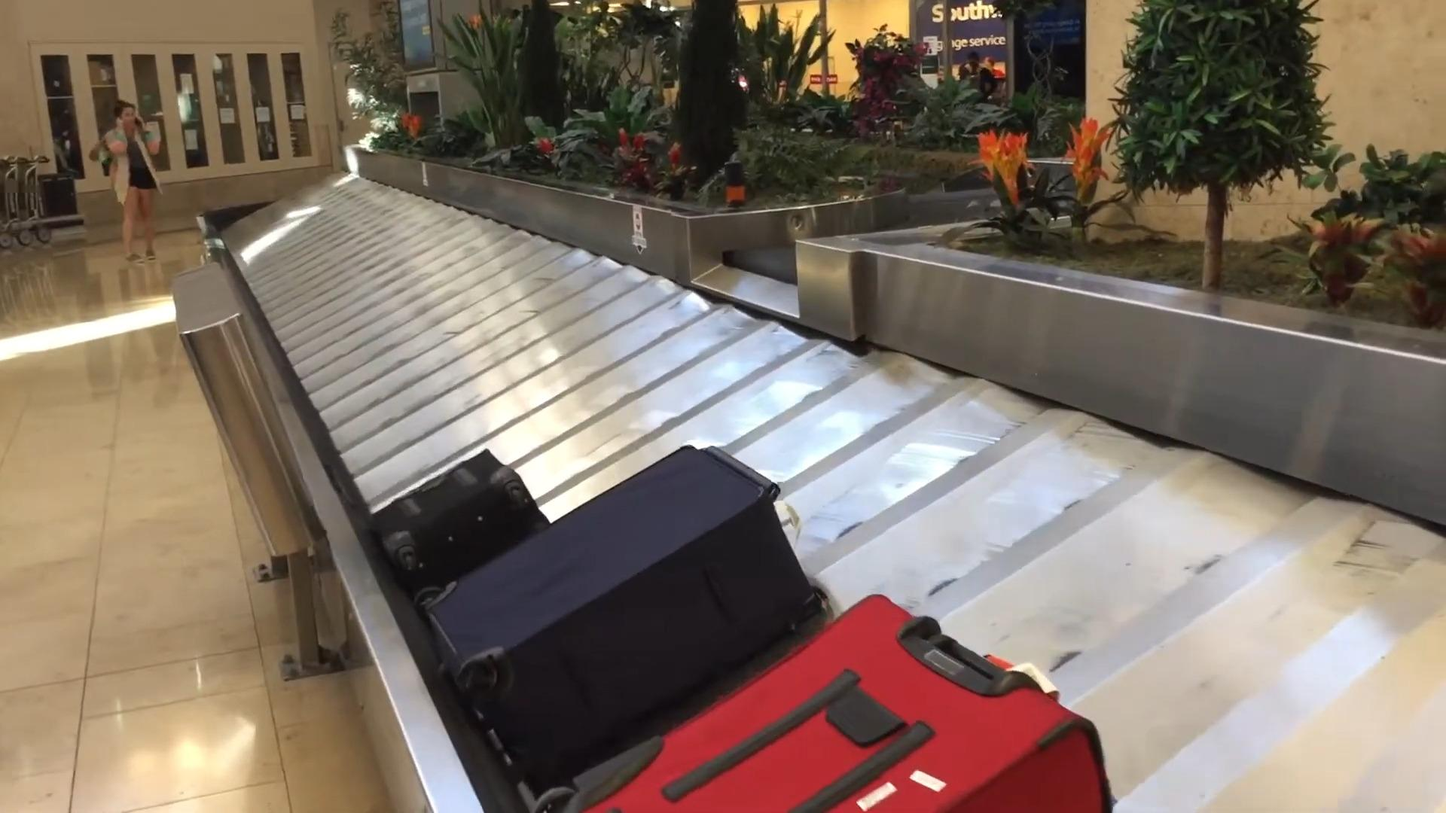luggage: (416, 441, 823, 791), (534, 590, 1110, 813), (365, 449, 549, 585), (946, 160, 997, 189)
